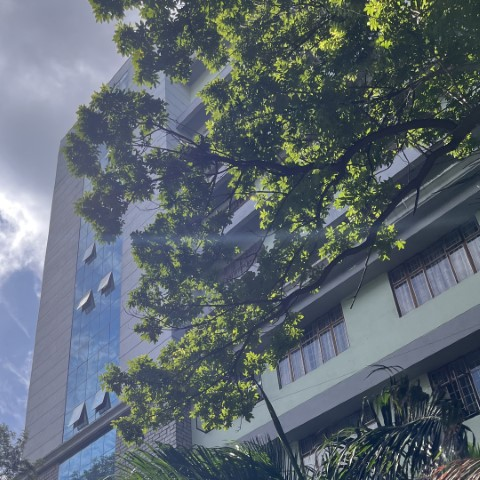Central Block: (46, 112, 187, 480)
